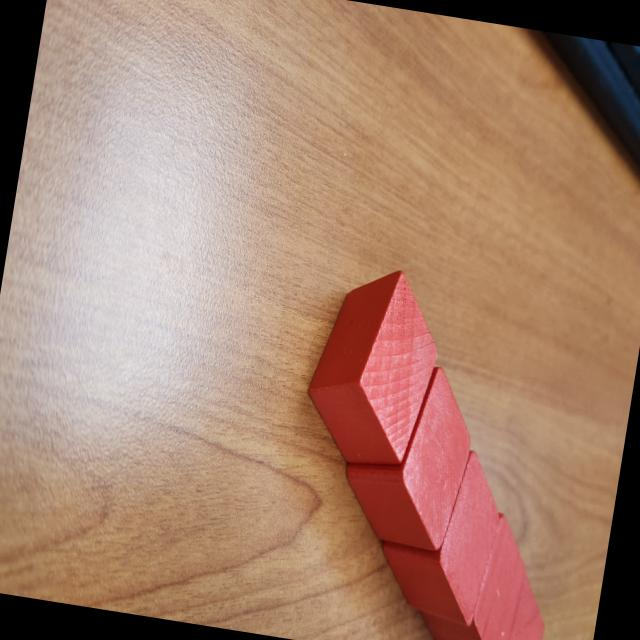red: (296, 258, 451, 474), (334, 352, 484, 554), (373, 438, 512, 626), (412, 502, 534, 640), (498, 569, 553, 640)
